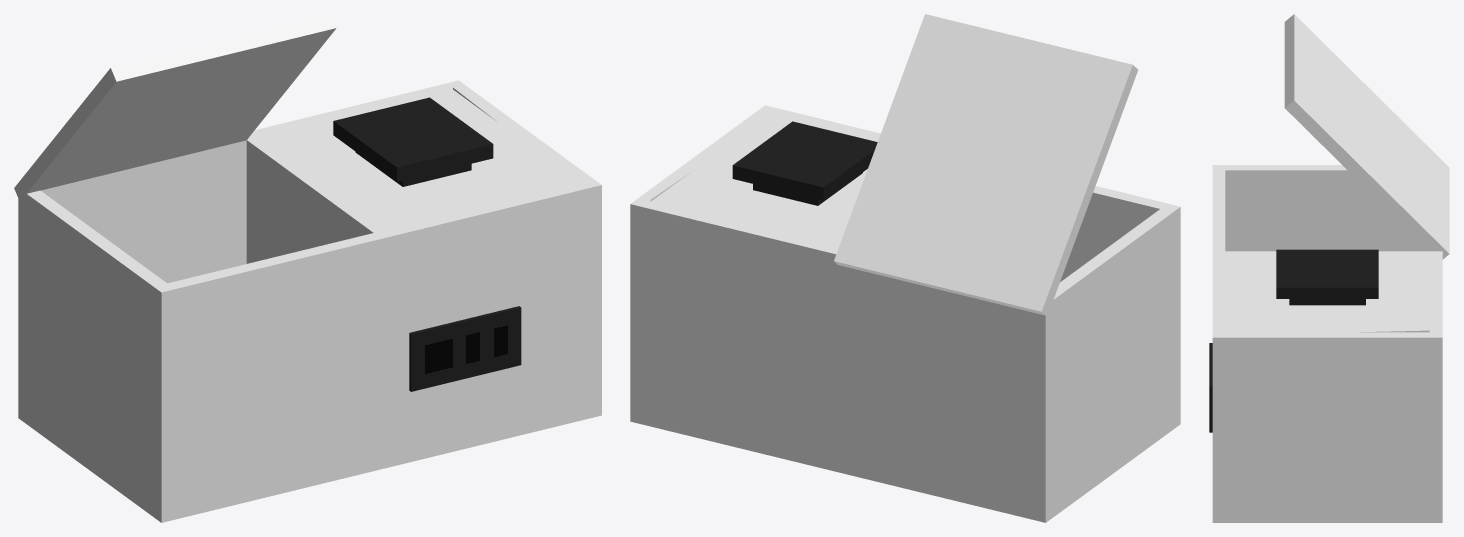
File: cooler (1).gltf
3 renders of one model, left to right at view 1: azimuth 30°, elevation 25°; view 2: azimuth 150°, elevation 25°; view 3: azimuth 270°, elevation 25°, orthographic. The views are drawn at different scales.
Visible parts, largest first — view 1: cube (×12); view 2: cube (×10); view 3: cube (×14).
Part boxes in pixels (x1,y1,x2,y2): cube (×12): [14, 14, 601, 522]; cube (×10): [630, 14, 1180, 522]; cube (×14): [1209, 14, 1449, 522].
Size of the model in its own units: 2 by 1.82 by 1.18.
Materials: 3 (3 with a texture image).
